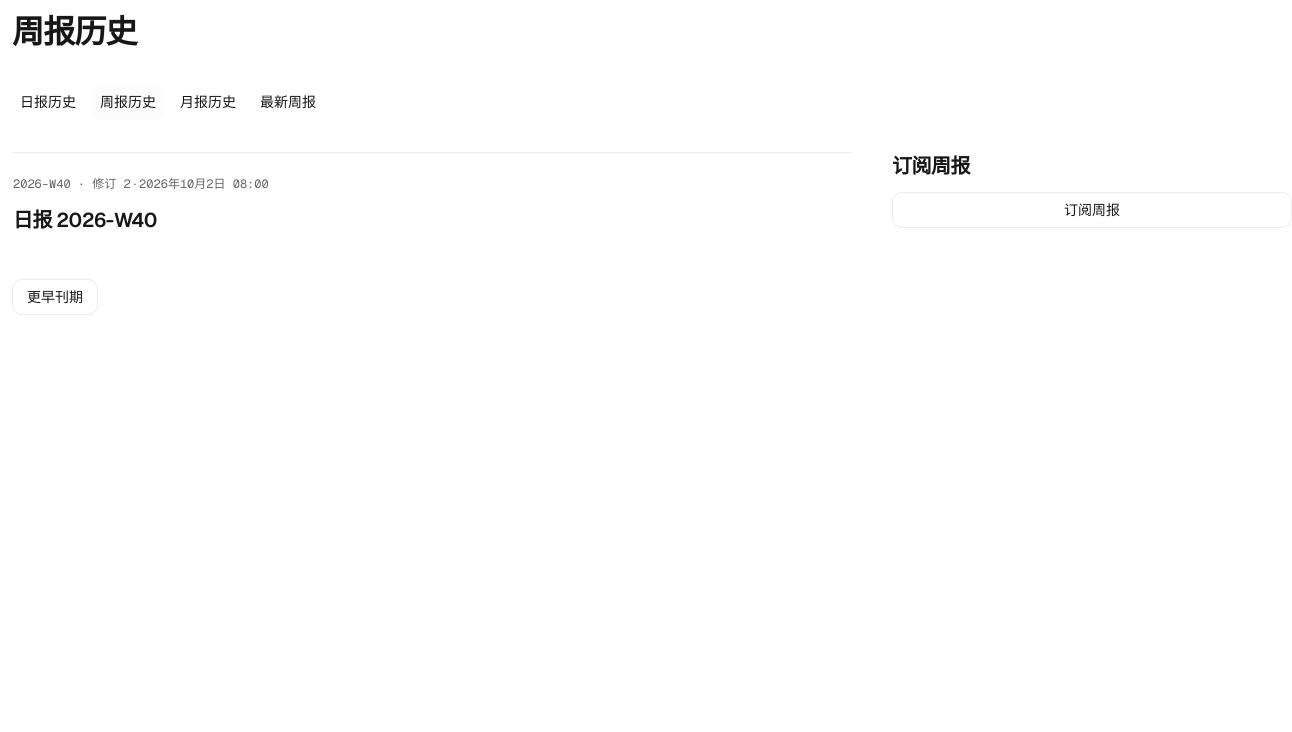
Test case: preserves the existing list and cursor after a failed page, marks it stale and allows a retry
Click the button "更早刊期" at point(55, 297), box [12,279,98,315]
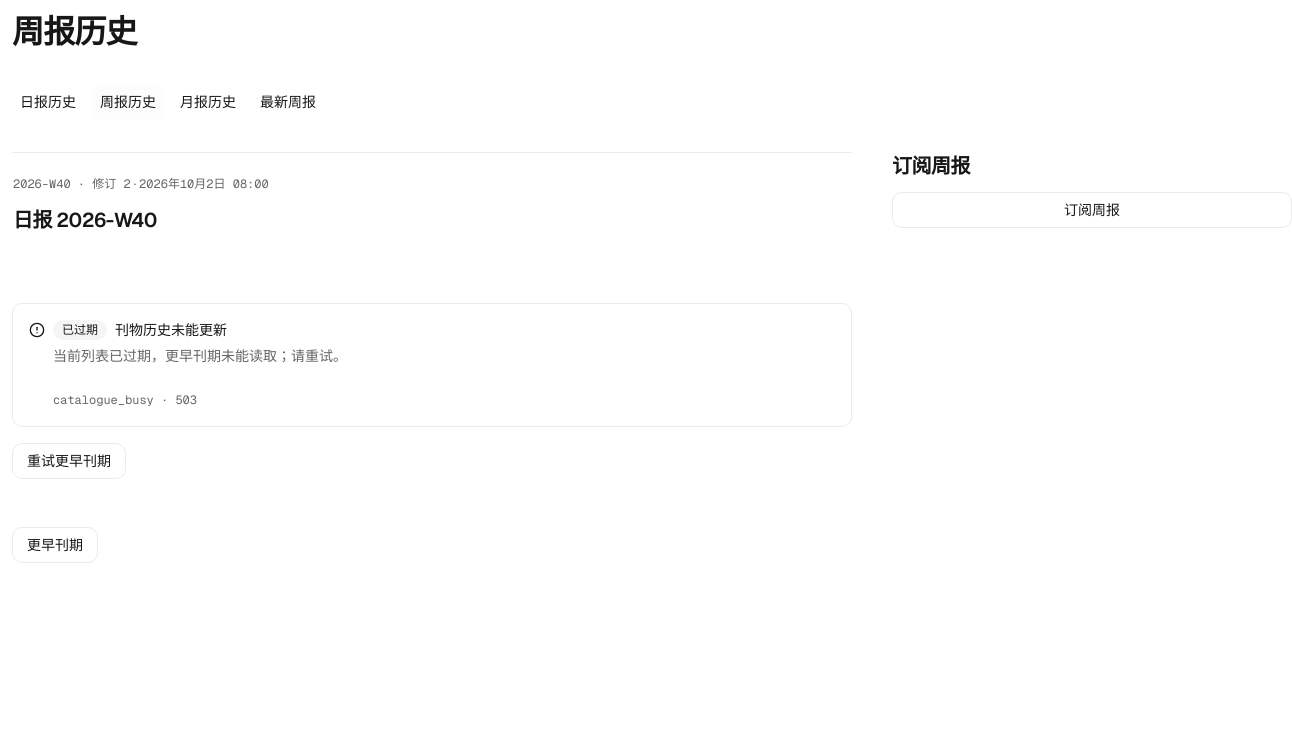
expect the link "日报 2026-W40" is shown: met, box [13,207,157,233]
expect the icon "已过期" is shown: met, box [53,320,107,340]
expect the message shows "catalogue_busy · 503": met, box [53,392,197,408]
Click the button "重试更早刊期" at point(69, 461), box [12,443,126,479]
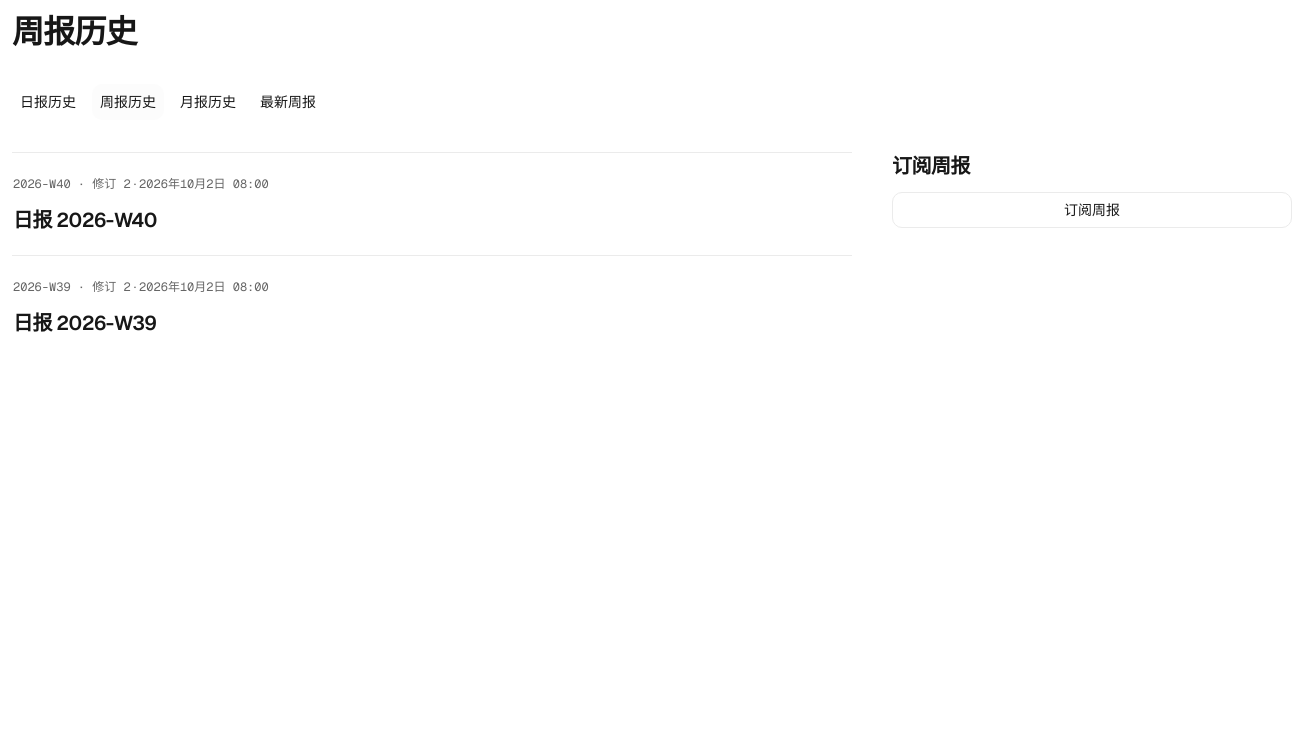
expect the link "日报 2026-W39" is shown: met, box [13,310,156,336]
expect the icon "已过期" is gone: met
